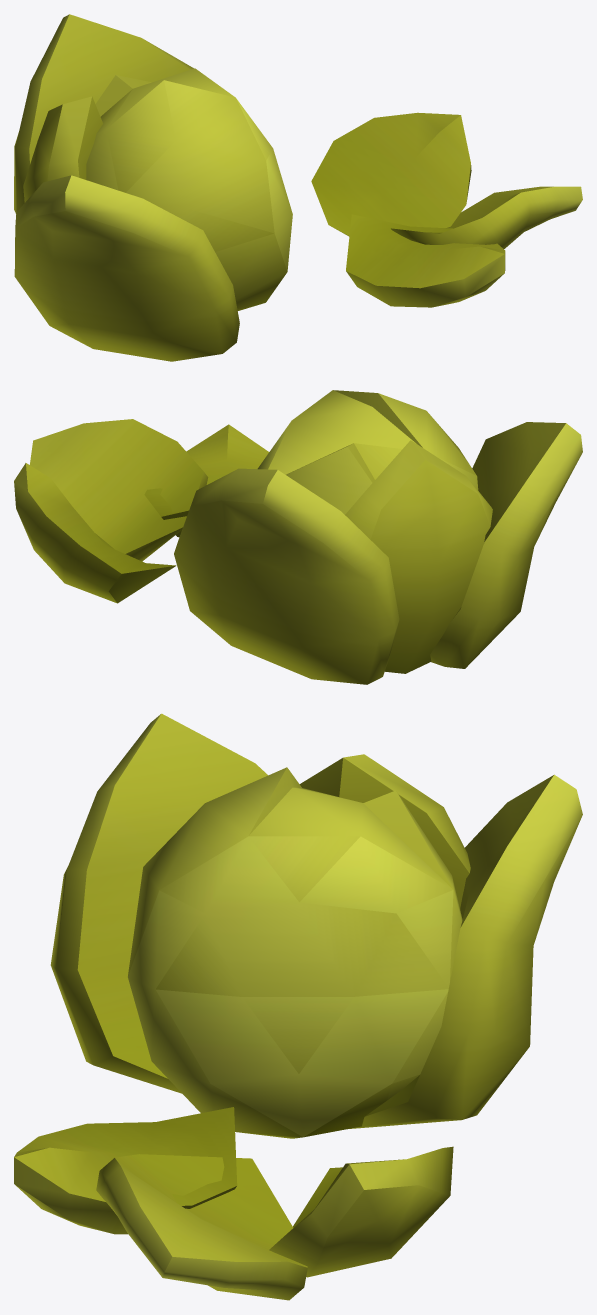
File: food-ingredient-lettuce-chopped.glb
The picture shows the model from 3 angles, top to bottom: view 1: azimuth 30°, elevation 25°; view 2: azimuth 150°, elevation 25°; view 3: azimuth 270°, elevation 25°; orthographic projection. The views are drawn at different scales.
Parts seen in each view (by area): view 1: food_ingredient_lettuce_chopped; view 2: food_ingredient_lettuce_chopped; view 3: food_ingredient_lettuce_chopped.
Boxes of the visible parts, box(x1,y1,x2,y2) form: food_ingredient_lettuce_chopped: box(14, 14, 582, 361); food_ingredient_lettuce_chopped: box(14, 390, 582, 684); food_ingredient_lettuce_chopped: box(14, 713, 582, 1300).
Bounding box in the file's own units: 1.8 × 0.8087 × 1.21.
1 material, 1 textured.
